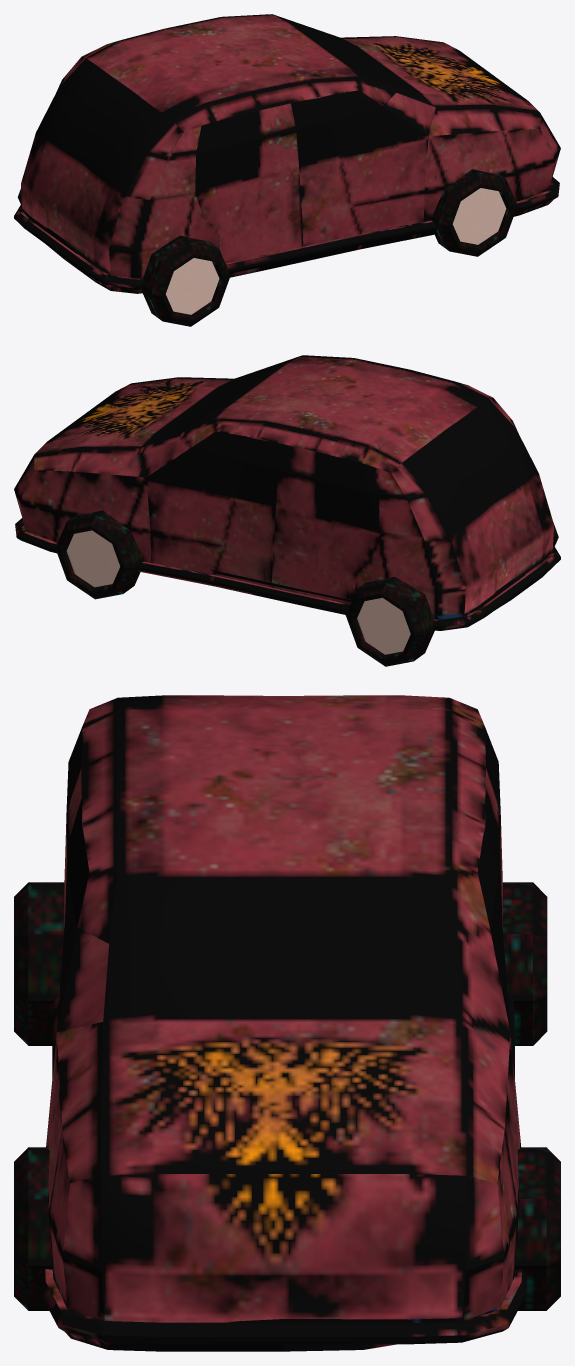
Rendered from Celerio_8.fbx.
3 renders of one model, top to bottom at view 1: azimuth 30°, elevation 25°; view 2: azimuth 150°, elevation 25°; view 3: azimuth 270°, elevation 25°, orthographic. The views are drawn at different scales.
Visible parts, largest first — view 1: CarHull, RightFrontDoor, RightRearDoor; view 2: CarHull, LeftFrontDoor, LeftRearDoor; view 3: CarHull, LeftFrontDoor, RightFrontDoor, RightRearDoor, LeftRearDoor.
Boxes of the visible parts, box(x1,y1,x2,y2) form: CarHull: box(14, 14, 560, 326); RightFrontDoor: box(291, 94, 428, 246); RightRearDoor: box(195, 103, 303, 263); CarHull: box(14, 355, 560, 666); LeftFrontDoor: box(146, 435, 283, 587); LeftRearDoor: box(271, 444, 379, 604); CarHull: box(14, 695, 560, 1351); LeftFrontDoor: box(482, 798, 510, 1030); RightFrontDoor: box(57, 798, 85, 1030); RightRearDoor: box(64, 726, 82, 927); LeftRearDoor: box(484, 726, 502, 928).
Size of the model in its own units: 1399 by 575 by 763.
Materials: 1 (1 with a texture image).
